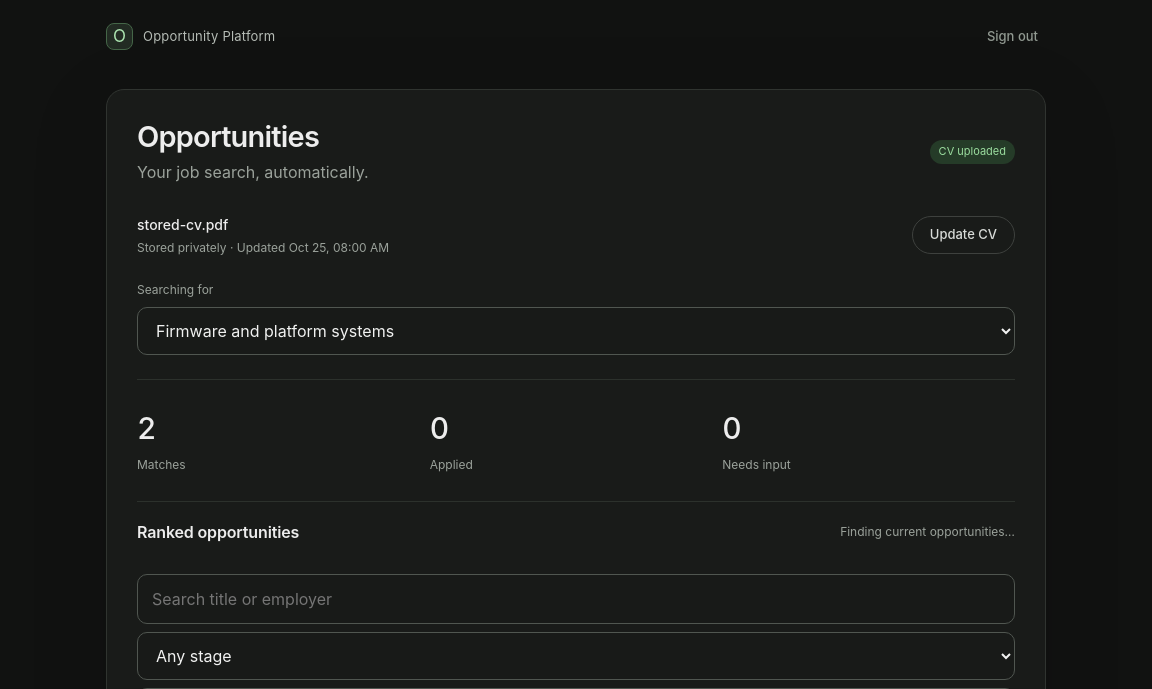
Test: sends filters to the server and says how many of all matches are shown
Select "Internship" in the dropdown named "Career stage" at (576, 656), box [137,632,1015,680]
(page scrolled)
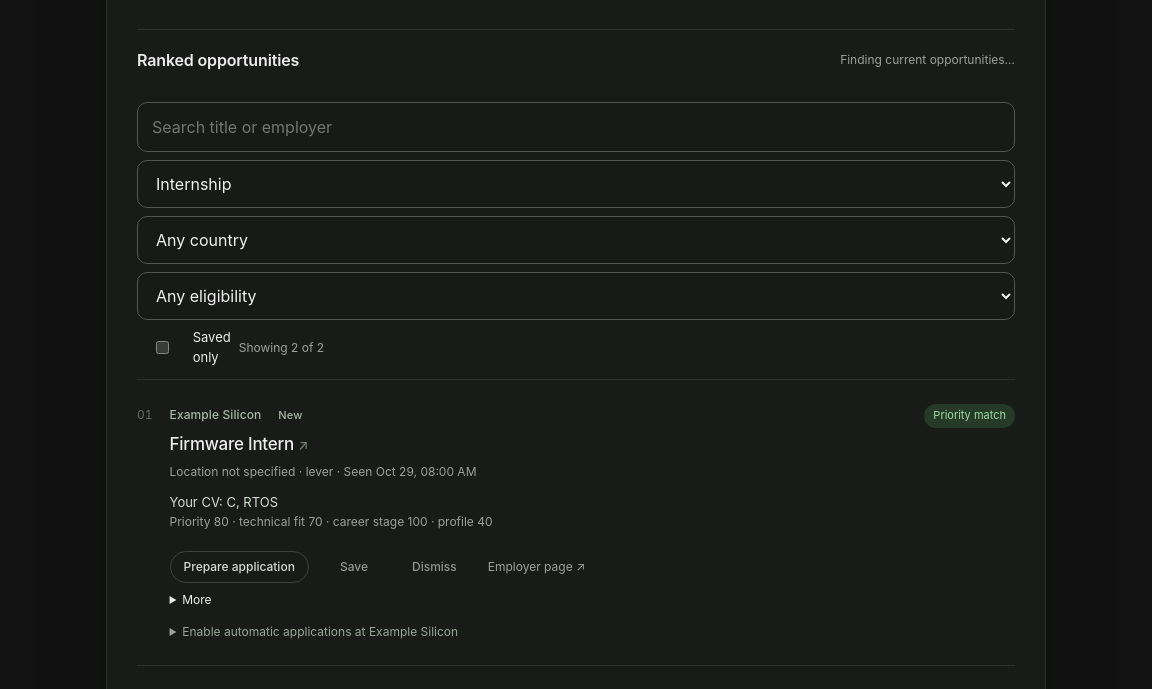
Click the checkbox labelled "Saved only" at (162, 348), box [141,341,184,354]
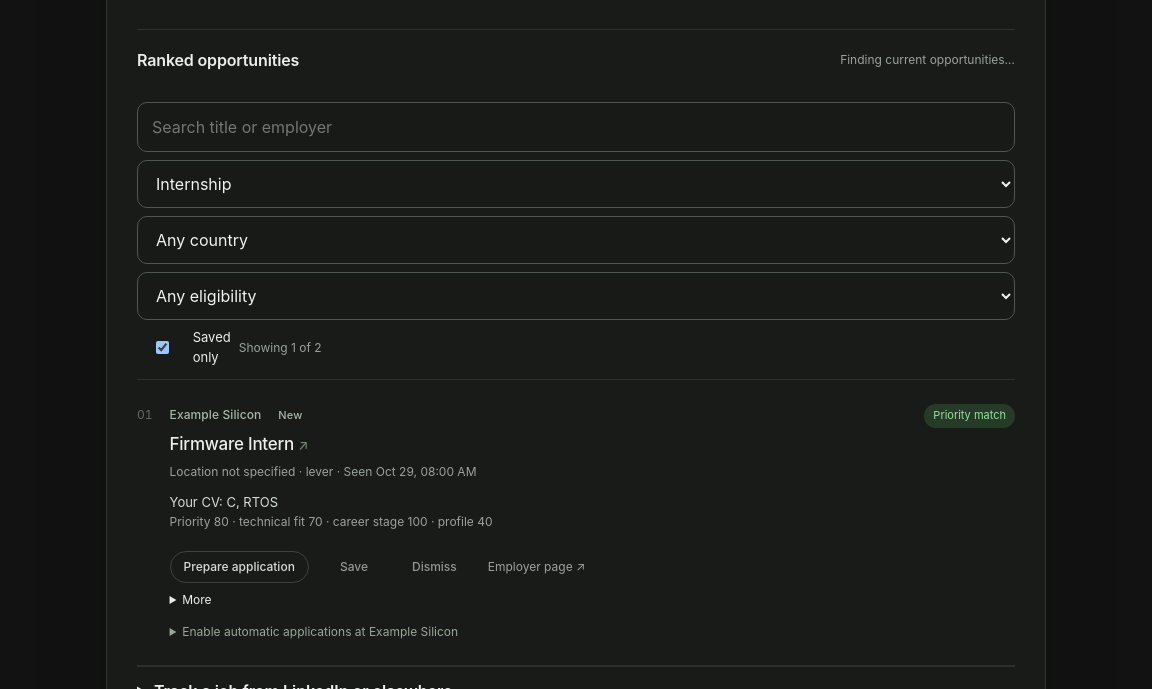
Result: the text "Showing 1 of 2" is shown at [239,339,322,357]
